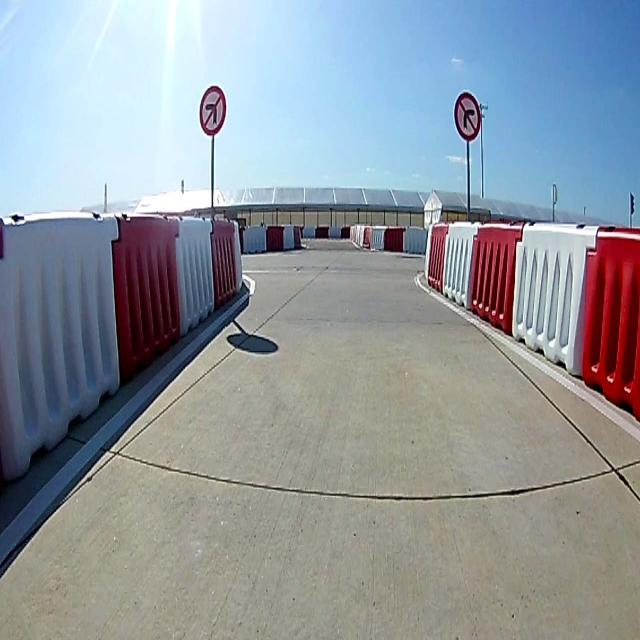sagadonulmez: (454, 91, 481, 141)
soladonulmez: (200, 84, 226, 137)
